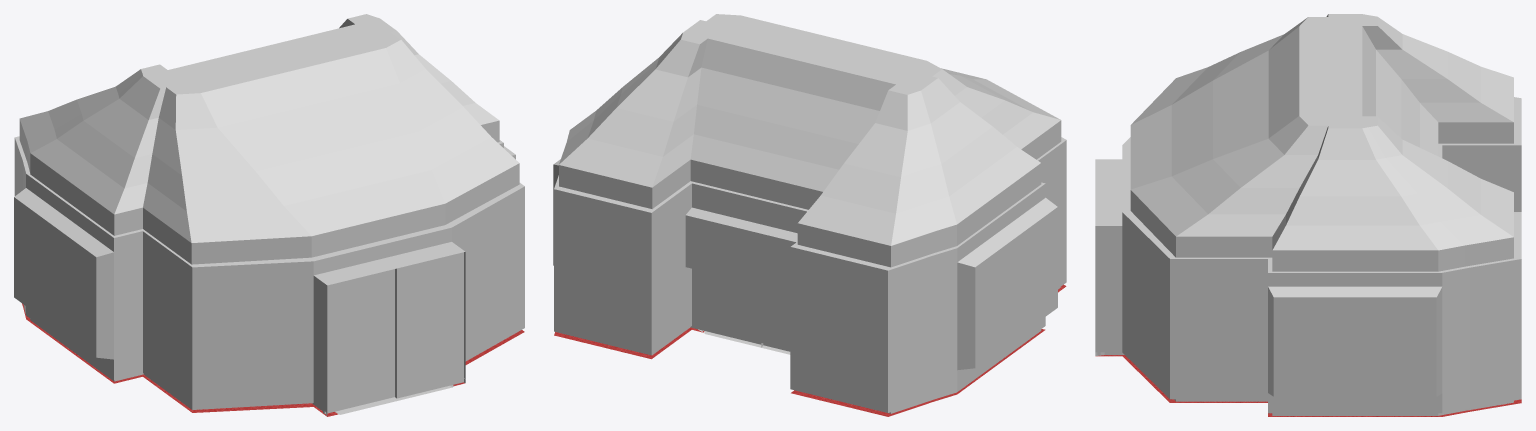
The model's file is WaitingRoom_Materials.fbx.
3 views of the same model, side by side, from view 1: azimuth 30°, elevation 25°; view 2: azimuth 150°, elevation 25°; view 3: azimuth 270°, elevation 25° (orthographic).
Parts seen in each view (by area): view 1: Roof, RoomRim, SlidingGlassDoor, SlidingGlassDoor2, Windows, Floor, Plane.002, RoomRim.001; view 2: Roof, RoomRim, Windows, Floor, Plane.002; view 3: Roof, RoomRim, Windows, Plane.002, Floor.
Part boxes in pixels (left/top/right/bottom): Roof: left=19, top=14, right=519, bottom=264; RoomRim: left=14, top=136, right=524, bottom=412; SlidingGlassDoor: left=395, top=252, right=463, bottom=398; SlidingGlassDoor2: left=323, top=269, right=394, bottom=413; Windows: left=14, top=197, right=96, bottom=357; Floor: left=22, top=303, right=524, bottom=416; Plane.002: left=30, top=318, right=465, bottom=416; RoomRim.001: left=336, top=385, right=451, bottom=414; Roof: left=559, top=14, right=1061, bottom=267; RoomRim: left=553, top=137, right=1066, bottom=412; Windows: left=975, top=207, right=1057, bottom=367; Floor: left=554, top=284, right=1066, bottom=416; Plane.002: left=652, top=287, right=1060, bottom=413; Roof: left=1130, top=14, right=1513, bottom=271; RoomRim: left=1095, top=97, right=1521, bottom=413; Windows: left=1273, top=297, right=1436, bottom=396; Plane.002: left=1095, top=352, right=1513, bottom=415; Floor: left=1095, top=355, right=1521, bottom=416.
Bounding box in the file's own units: 1748 × 1016 × 1554.
